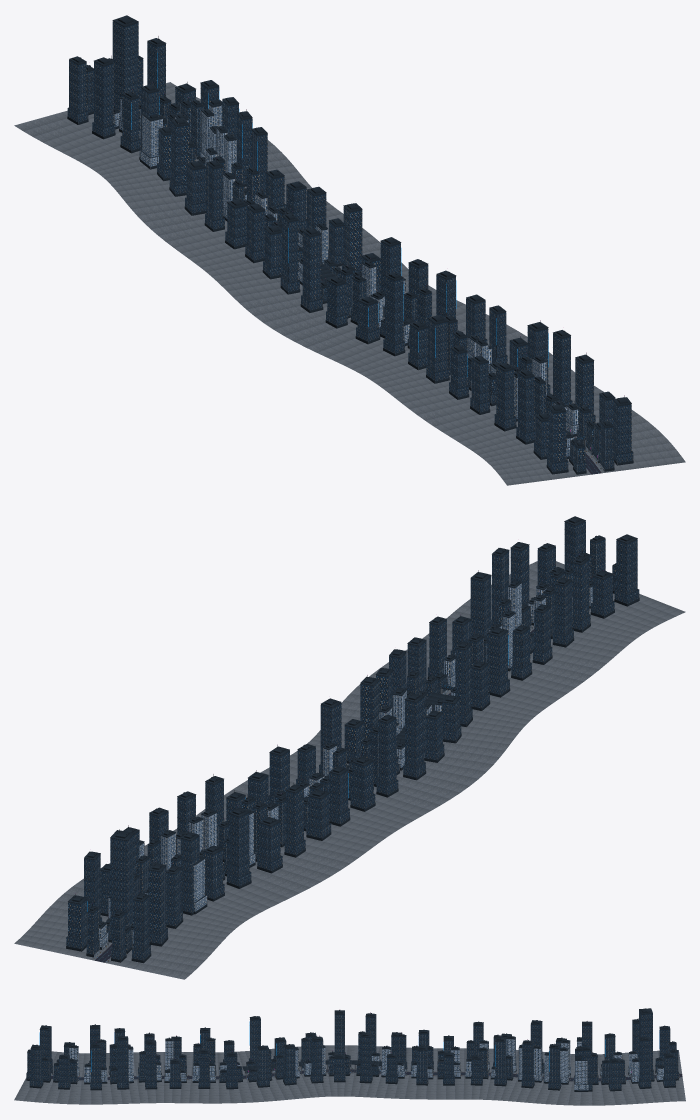
File: night-city.glb
3 renders of one model, top to bottom at view 1: azimuth 30°, elevation 25°; view 2: azimuth 150°, elevation 25°; view 3: azimuth 270°, elevation 25°, orthographic. The views are drawn at different scales.
Visible parts, largest first — view 1: city_11_Office windows, city_01_Office windows, city_00_Office windows, city_04_Office windows, city_00_Concrete paving, city_08_Office windows, city_05_Office windows, city_03_Office windows, city_06_Office windows, city_09_Office windows, city_02_Office windows, city_07_Office windows (+27 smaller); view 2: city_11_Office windows, city_06_Office windows, city_11_Concrete paving, city_01_Office windows, city_00_Office windows, city_03_Office windows, city_08_Office windows, city_05_Office windows, city_09_Office windows, city_02_Office windows, city_07_Office windows, city_10_Office windows (+26 smaller); view 3: city_11_Office windows, city_04_Office windows, city_00_Office windows, city_01_Office windows, city_06_Office windows, city_05_Office windows, city_10_Office windows, city_08_Office windows, city_00_Concrete paving, city_03_Concrete paving, city_02_Concrete paving, city_07_Concrete paving (+33 smaller).
Part boxes in pixels (x1=…): city_11_Office windows: x1=67, y1=21, x2=165, y2=136; city_01_Office windows: x1=494, y1=334, x2=595, y2=441; city_00_Office windows: x1=534, y1=395, x2=633, y2=471; city_04_Office windows: x1=356, y1=264, x2=455, y2=353; city_00_Concrete paving: x1=483, y1=403, x2=685, y2=485; city_08_Office windows: x1=185, y1=130, x2=286, y2=229; city_05_Office windows: x1=301, y1=232, x2=400, y2=325; city_03_Office windows: x1=408, y1=299, x2=507, y2=380; city_06_Office windows: x1=263, y1=207, x2=362, y2=291; city_09_Office windows: x1=157, y1=100, x2=252, y2=193; city_02_Office windows: x1=449, y1=326, x2=550, y2=412; city_07_Office windows: x1=225, y1=186, x2=326, y2=260; city_11_Office windows: x1=66, y1=834, x2=167, y2=960; city_06_Office windows: x1=296, y1=703, x2=398, y2=808; city_11_Concrete paving: x1=14, y1=843, x2=221, y2=979; city_01_Office windows: x1=491, y1=546, x2=590, y2=644; city_00_Office windows: x1=536, y1=521, x2=639, y2=615; city_03_Office windows: x1=406, y1=620, x2=509, y2=708; city_08_Office windows: x1=205, y1=780, x2=305, y2=870; city_05_Office windows: x1=344, y1=680, x2=444, y2=777; city_09_Office windows: x1=149, y1=795, x2=251, y2=898; city_02_Office windows: x1=450, y1=576, x2=552, y2=677; city_07_Office windows: x1=248, y1=751, x2=349, y2=838; city_10_Office windows: x1=100, y1=831, x2=199, y2=925; city_11_Office windows: x1=632, y1=1010, x2=678, y2=1087; city_04_Office windows: x1=246, y1=1018, x2=296, y2=1085; city_00_Office windows: x1=26, y1=1027, x2=77, y2=1087; city_01_Office windows: x1=89, y1=1028, x2=129, y2=1088; city_06_Office windows: x1=356, y1=1015, x2=406, y2=1082; city_05_Office windows: x1=300, y1=1014, x2=350, y2=1081; city_10_Office windows: x1=574, y1=1026, x2=625, y2=1089; city_08_Office windows: x1=467, y1=1026, x2=513, y2=1084; city_00_Concrete paving: x1=14, y1=1048, x2=84, y2=1104; city_03_Concrete paving: x1=189, y1=1042, x2=253, y2=1103; city_02_Concrete paving: x1=133, y1=1041, x2=193, y2=1103; city_07_Concrete paving: x1=405, y1=1048, x2=464, y2=1099.
Bounding box in the file's own units: 472 × 254 × 2216.
7 materials, 7 textured.
